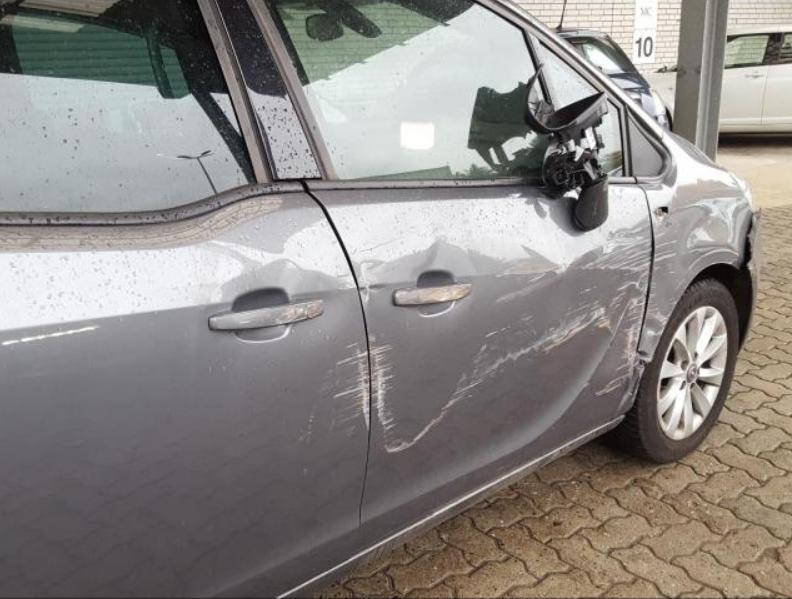Back-door: (0, 0, 371, 598)
Back-window: (0, 0, 255, 214)
Fender: (617, 128, 753, 416)
Front-bumper: (737, 208, 761, 355)
Front-door: (248, 0, 653, 548)
Front-wheel: (604, 279, 739, 463)
Front-window: (271, 1, 563, 181), (541, 42, 623, 173), (629, 119, 662, 176)
Headlight: (728, 172, 754, 214)
Mirror: (525, 65, 610, 231)
Rocker-panel: (282, 415, 624, 597)
